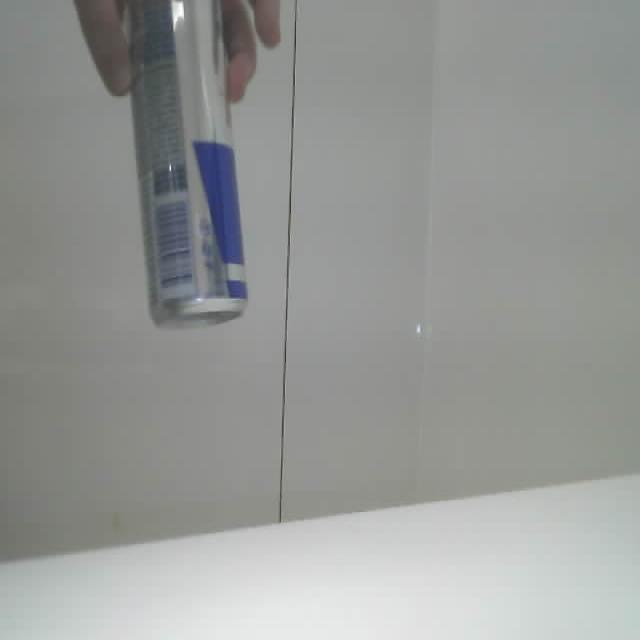redbull can: (128, 0, 246, 326)
